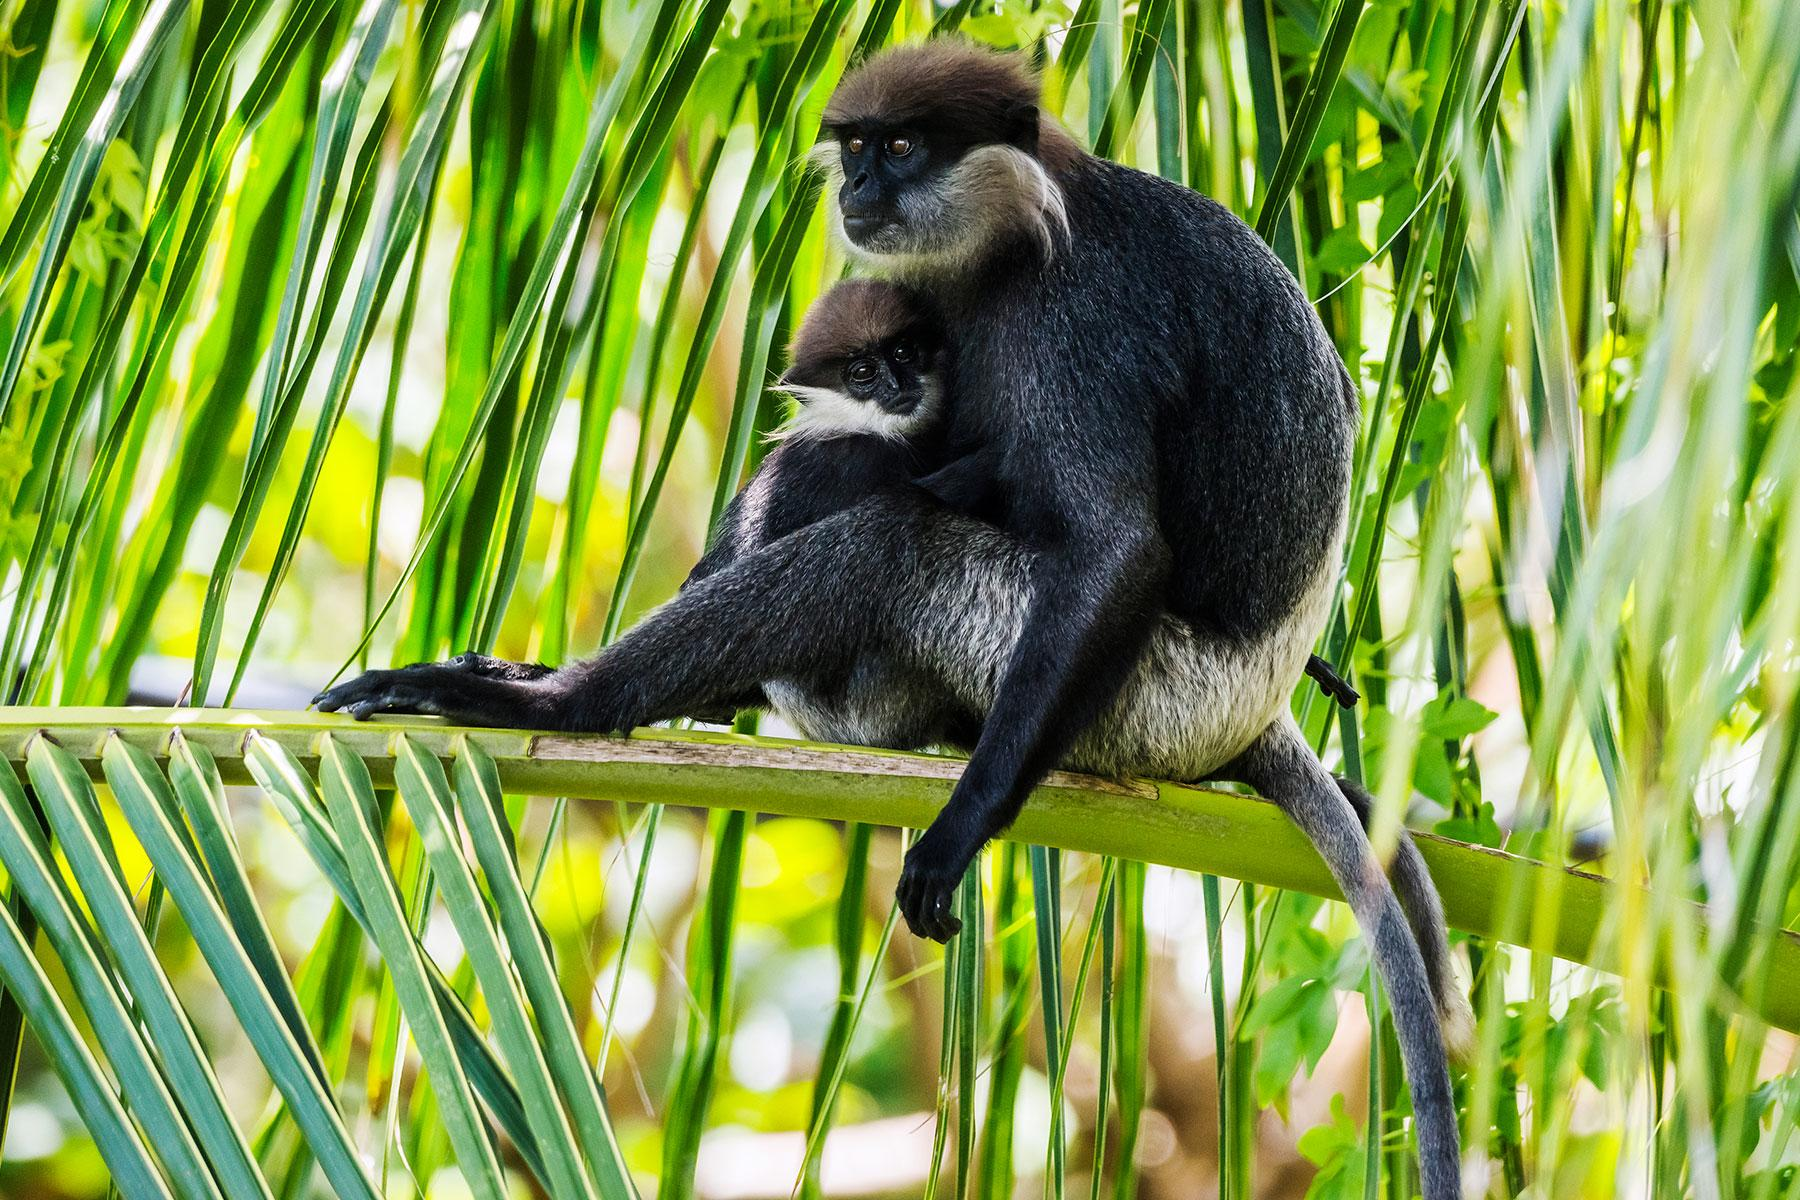Monkey: (281, 23, 1385, 951)
